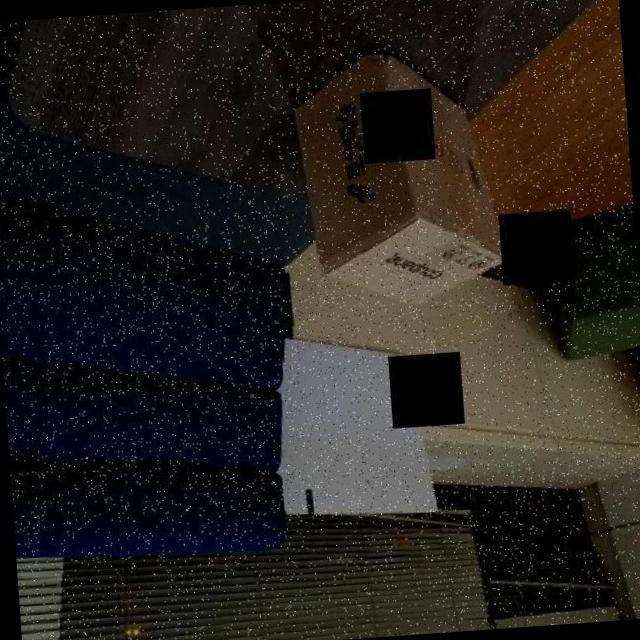box: (269, 32, 518, 326)
